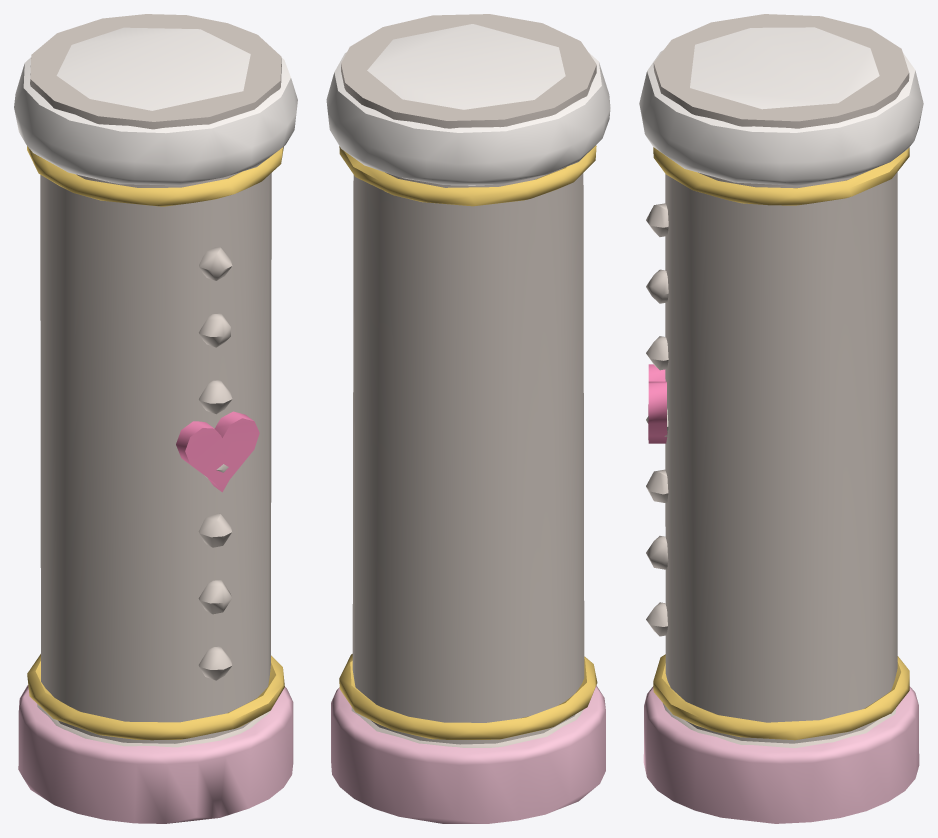
The model's file is wall_corner.glb.
3 views of the same model, side by side, from view 1: azimuth 30°, elevation 25°; view 2: azimuth 150°, elevation 25°; view 3: azimuth 270°, elevation 25° (orthographic).
Visible parts, largest first — view 1: wall_corner; view 2: wall_corner; view 3: wall_corner.
Boxes of the visible parts, x1,y1,x2,y2 form: wall_corner: [14, 14, 297, 823]; wall_corner: [326, 14, 610, 823]; wall_corner: [639, 14, 923, 823].
Bounding box in the file's own units: 1.47 × 4 × 1.47.
